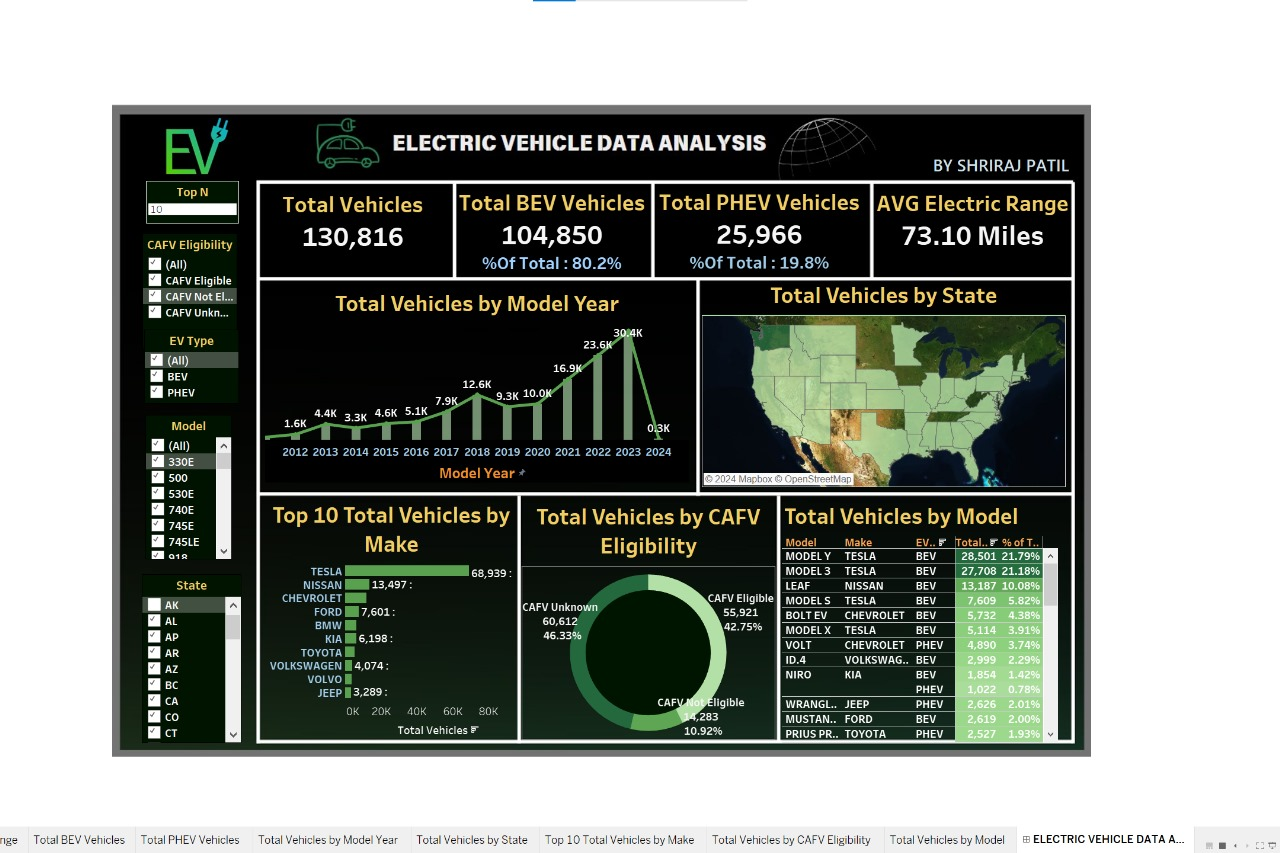

This screenshot's page, from the dashboard's own definition file:
{"tool":"tableau","page":{"name":"ELECTRIC VEHICLE DATA ANALYSIS","canvas":[1800,1100],"ordinal":0},"visuals":[{"type":"image","param":"D:/Bank Loan Project/Electrical vehichels analysis/ev logo.jpg","box":[95,50,181,102]},{"type":"text","box":[1390,105,258,52]},{"type":"worksheet","title":"Total Vehicles","mark":"Automatic","box":[285,151,312,148]},{"type":"worksheet","title":"Total BEV Vehicles","mark":"Automatic","box":[547,155,408,173]},{"type":"parameter","param":"[Parameters].[Parameter 1]","box":[66,158,157,72]},{"type":"worksheet","title":"Total PHEV Vehicles ","mark":"Automatic","box":[921,167,368,159]},{"type":"worksheet","title":"AVG Electric Range","mark":"Automatic","box":[1291,169,345,133]},{"type":"filter","title":"Total Vehicles by Model Year","param":"[federated.0psxz5u0wgm23i1e05qw50ssd1yk].[none:Clean Alternative Fuel Vehicle (C","box":[60,247,160,194]},{"type":"worksheet","title":"Total Vehicles by State","mark":"Automatic","box":[1004,321,614,354]},{"type":"worksheet","title":"Total Vehicles by Model Year","mark":"Area","rows":["Calculation_91760899147780096","Calculation_91760899147780096"],"cols":["Model Year"],"box":[267,335,715,332]},{"type":"filter","title":"Total Vehicles by Model Year","param":"[federated.0psxz5u0wgm23i1e05qw50ssd1yk].[none:Electric Vehicle Type:nk]","box":[63,409,160,125]},{"type":"filter","title":"Total Vehicles by Model Year","param":"[federated.0psxz5u0wgm23i1e05qw50ssd1yk].[none:Model:nk]","box":[65,553,146,244]},{"type":"worksheet","title":"Top 10 Total Vehicles by Make","mark":"Bar","rows":["Make"],"cols":["Calculation_91760899147780096"],"box":[262,692,436,412]},{"type":"worksheet","title":"Total Vehicles by CAFV Eligibility","mark":"Pie","rows":["Calculation_91760899178348555","Calculation_91760899178348555"],"box":[700,695,428,407]}]}

Visuals, with their boxes on the page's 1800x1100 design canvas (x1, y1, x2, y2). These are canvas units, not pixel positions in the 1280x853 screenshot, which may show the page scaled, cropped or inside an application window:
image: detection(95, 50, 276, 152)
text: detection(1390, 105, 1648, 157)
"Total Vehicles" worksheet: detection(285, 151, 597, 299)
"Total BEV Vehicles" worksheet: detection(547, 155, 955, 328)
parameter: detection(66, 158, 223, 230)
"Total PHEV Vehicles " worksheet: detection(921, 167, 1289, 326)
"AVG Electric Range" worksheet: detection(1291, 169, 1636, 302)
"Total Vehicles by Model Year" filter: detection(60, 247, 220, 441)
"Total Vehicles by State" worksheet: detection(1004, 321, 1618, 675)
"Total Vehicles by Model Year" worksheet (Area marks): detection(267, 335, 982, 667)
"Total Vehicles by Model Year" filter: detection(63, 409, 223, 534)
"Total Vehicles by Model Year" filter: detection(65, 553, 211, 797)
"Top 10 Total Vehicles by Make" worksheet (Bar marks): detection(262, 692, 698, 1104)
"Total Vehicles by CAFV Eligibility" worksheet (Pie marks): detection(700, 695, 1128, 1102)
